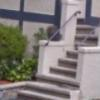stairs: (12, 50, 85, 99)
